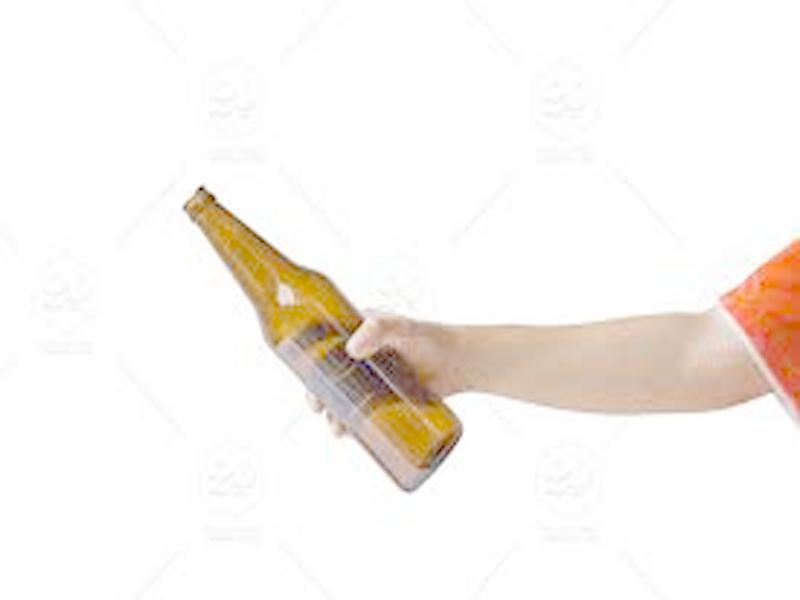Beer: (183, 187, 463, 495)
